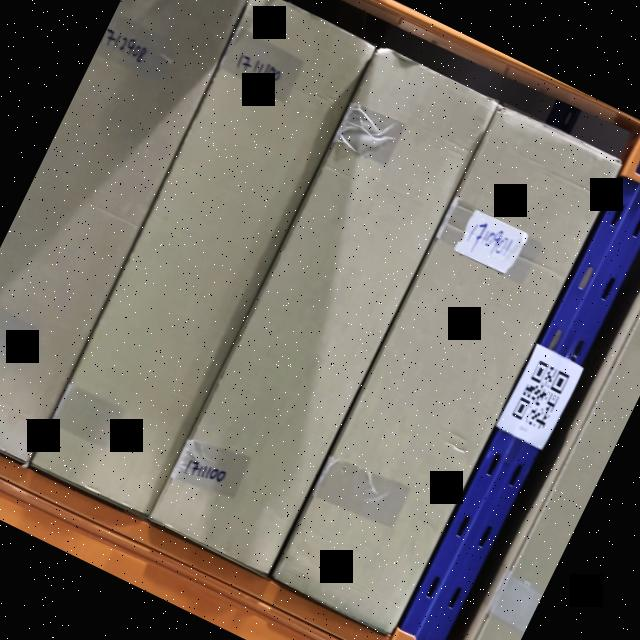box: (148, 42, 501, 578), (268, 105, 622, 639), (25, 0, 376, 520), (0, 0, 252, 459), (461, 185, 640, 640)
